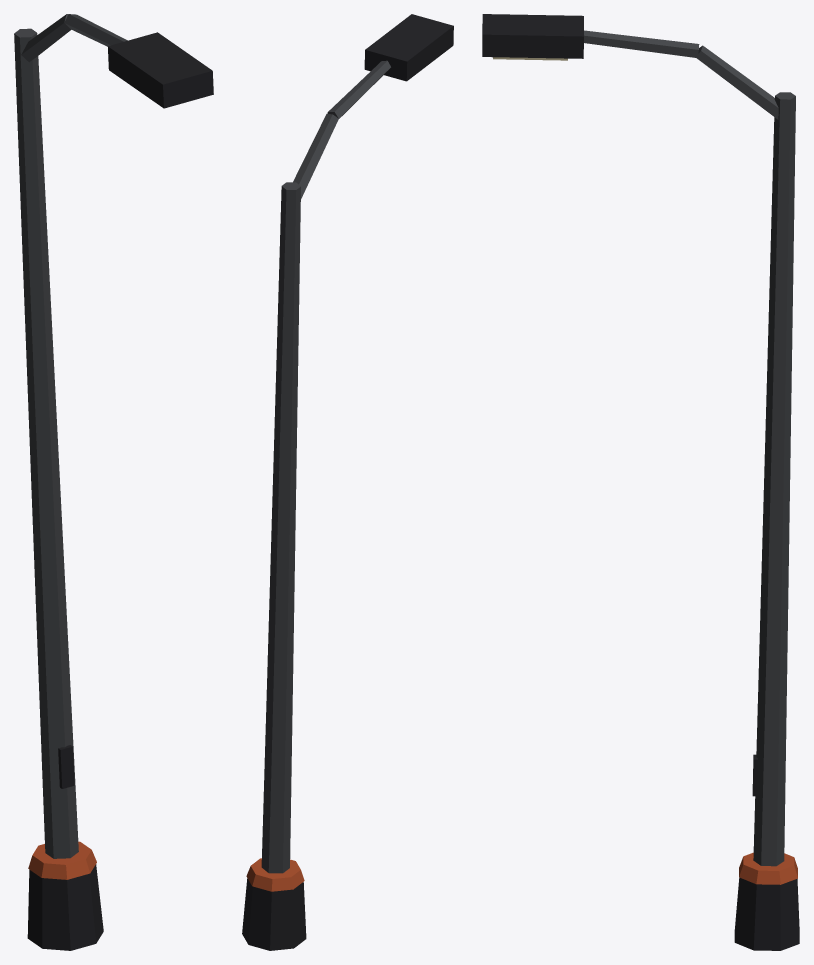
Rendered from streetlight.glb.
The picture shows the model from 3 angles, left to right: view 1: azimuth 30°, elevation 25°; view 2: azimuth 150°, elevation 25°; view 3: azimuth 270°, elevation 25°; orthographic projection. The views are drawn at different scales.
Parts seen in each view (by area): view 1: streetlight; view 2: streetlight; view 3: streetlight.
Part boxes in pixels (x1=…): streetlight: x1=14, y1=14, x2=213, y2=950; streetlight: x1=242, y1=14, x2=453, y2=950; streetlight: x1=482, y1=14, x2=799, y2=950.
Bounding box in the file's own units: 0.4252 × 4.51 × 1.44.
